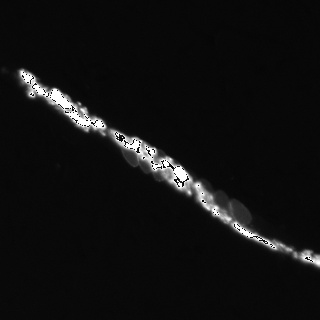embryo: (193, 180, 215, 211), (137, 143, 155, 174), (229, 199, 251, 224), (122, 139, 141, 167), (213, 190, 233, 216), (152, 150, 167, 181), (163, 157, 178, 184)
